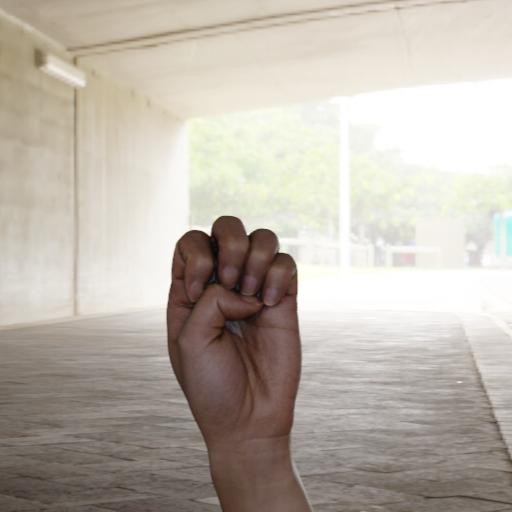E: (158, 206, 318, 446)
